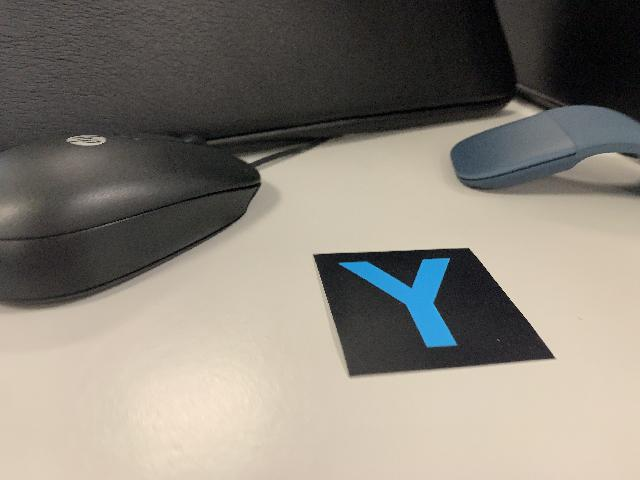y: (311, 246, 558, 379)
